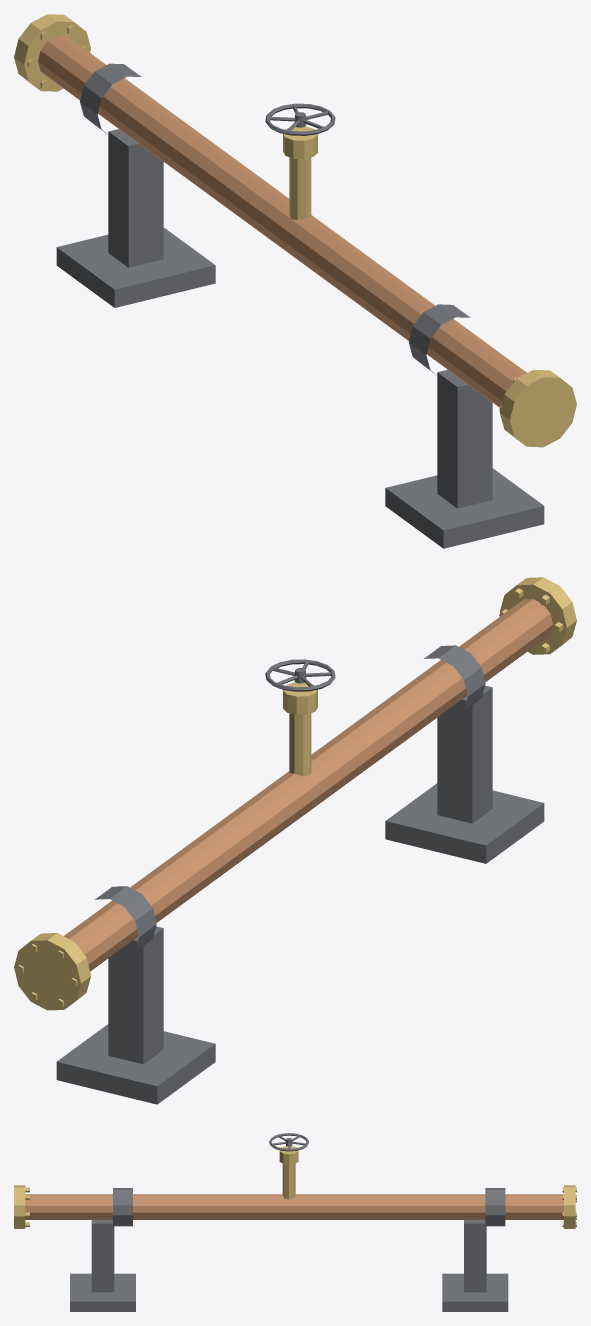
File: steampunk-airship-dock-and-workshop-pipe-run-straight-412eab5c__36068.glb
The picture shows the model from 3 angles, top to bottom: view 1: azimuth 30°, elevation 25°; view 2: azimuth 150°, elevation 25°; view 3: azimuth 270°, elevation 25°; orthographic projection. The views are drawn at different scales.
Visible parts, largest first — view 1: pipe-run-straight, valve-branch; view 2: pipe-run-straight, valve-branch; view 3: pipe-run-straight, valve-branch.
Part boxes in pixels (left/top/right/bottom): pipe-run-straight: left=14, top=14, right=576, bottom=548; valve-branch: left=265, top=103, right=335, bottom=135; pipe-run-straight: left=14, top=577, right=576, bottom=1104; valve-branch: left=265, top=659, right=335, bottom=691; pipe-run-straight: left=14, top=1146, right=576, bottom=1311; valve-branch: left=269, top=1133, right=308, bottom=1151.
Size of the model in its own units: 0.46 by 1.22 by 3.93.
